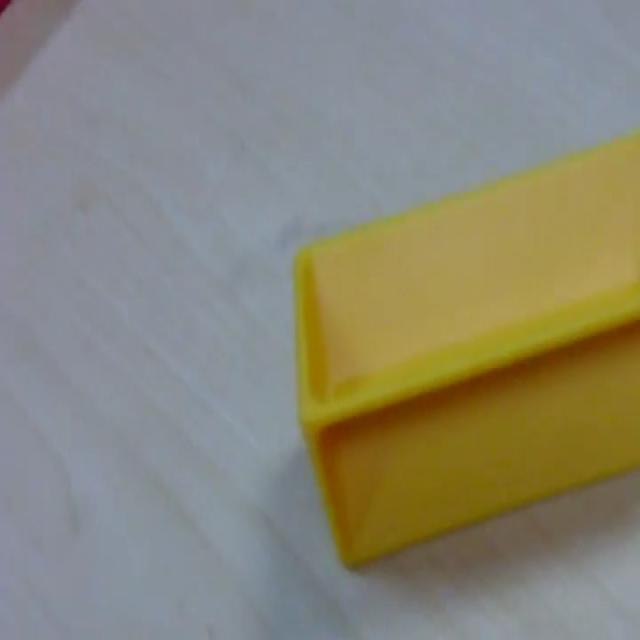yellow_block: (292, 130, 638, 570)
